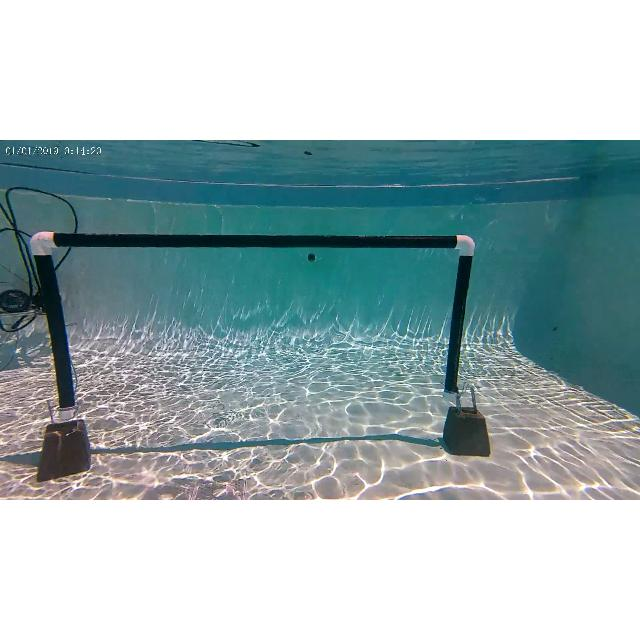prequal gate: (29, 229, 474, 421)
prequal gate leg l: (26, 228, 86, 420)
prequal gate leg r: (442, 231, 472, 397)
